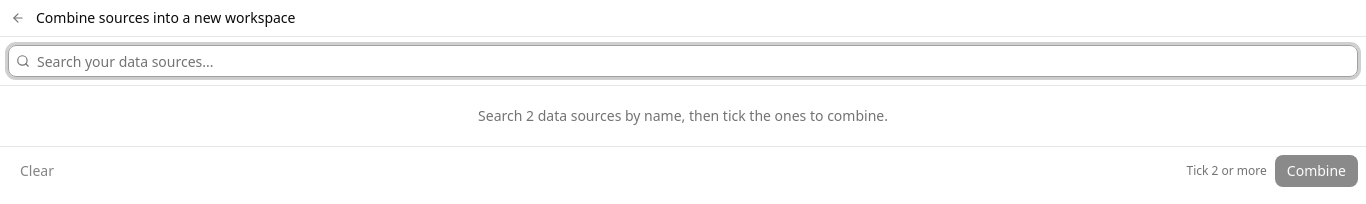
Scenario: lists nothing until the user types
Type "alp" into the field with test id "workspace-basket-search" at (683,61), box [8,45,1358,77]
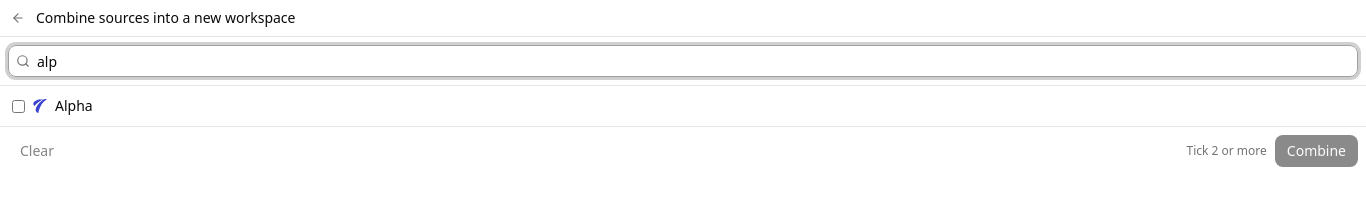
Result: the checkbox with test id "workspace-basket-option-a" is shown at [12,100,25,112]
